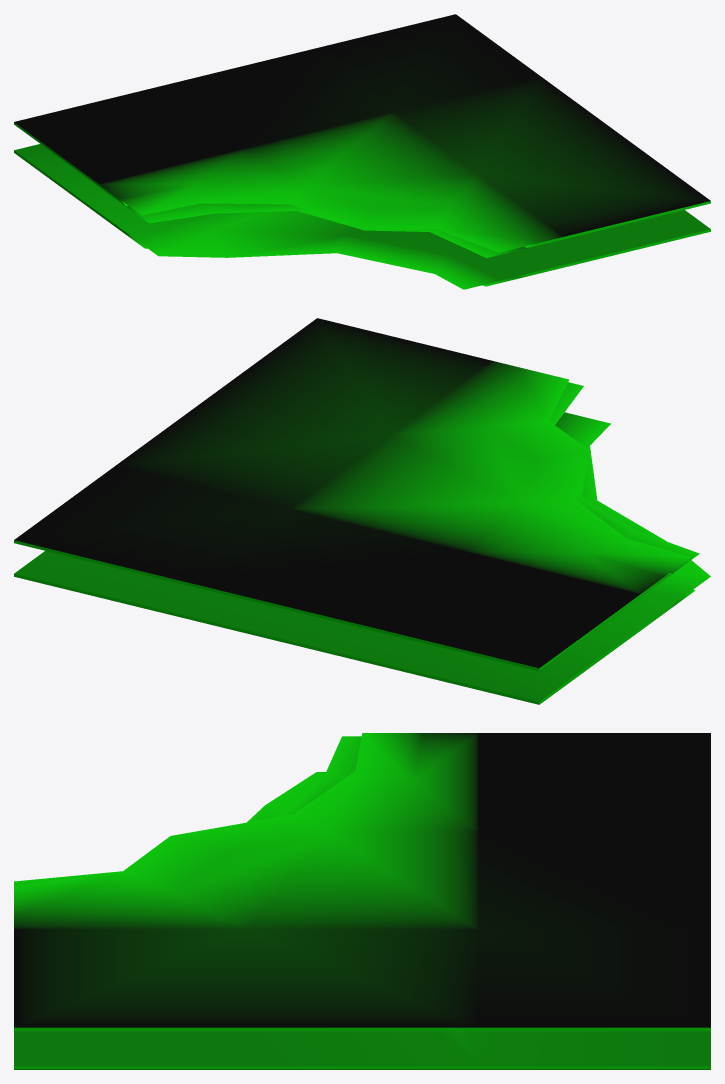
Rendered from DBK_Plywood_Floor_90_B.fbx.
The picture shows the model from 3 angles, top to bottom: view 1: azimuth 30°, elevation 25°; view 2: azimuth 150°, elevation 25°; view 3: azimuth 270°, elevation 25°; orthographic projection. The views are drawn at different scales.
Visible parts, largest first — view 1: DBK_Plywood_Floor_90_B; view 2: DBK_Plywood_Floor_90_B; view 3: DBK_Plywood_Floor_90_B.
Part boxes in pixels (x1=…): DBK_Plywood_Floor_90_B: x1=14, y1=14, x2=710, y2=289; DBK_Plywood_Floor_90_B: x1=14, y1=318, x2=710, y2=704; DBK_Plywood_Floor_90_B: x1=14, y1=733, x2=710, y2=1069.
Size of the model in its own units: 300 by 20 by 300.
